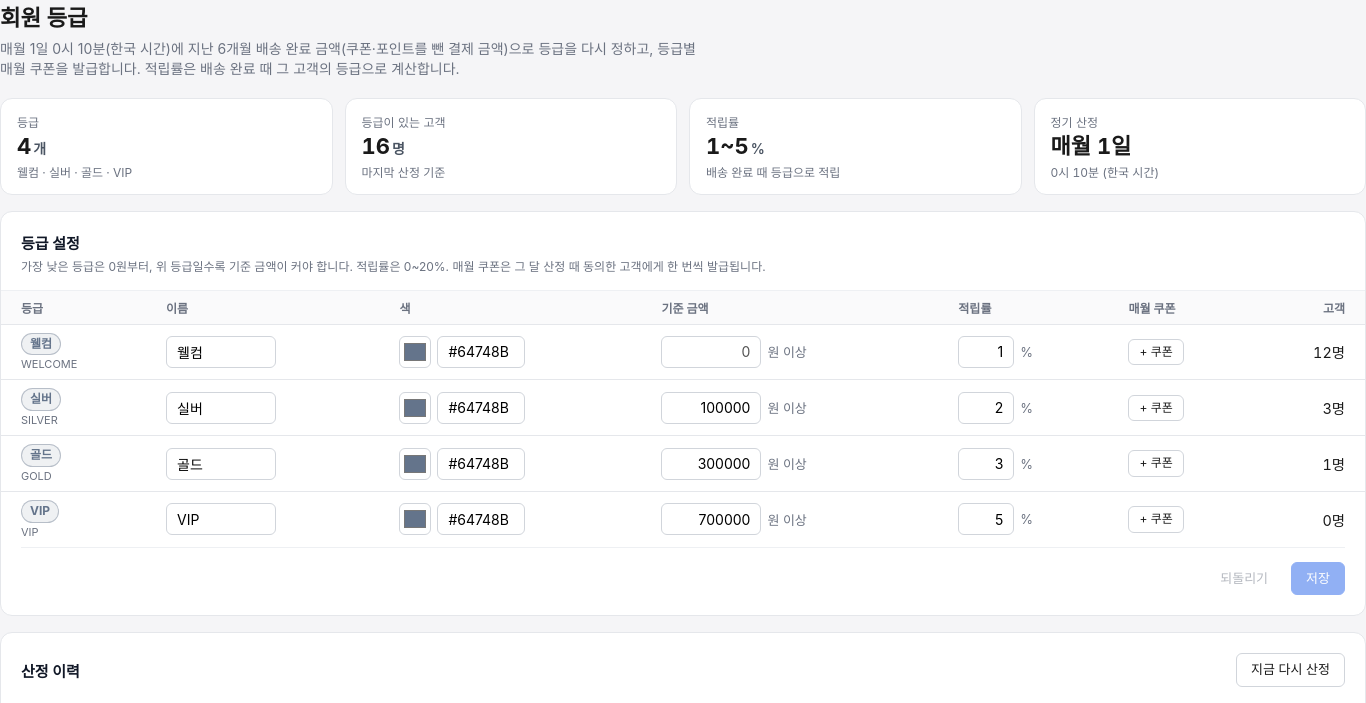
Scenario: TiersPage › saves the full list with coupon ids and shows the server message on failure
Click the button with aria-label "골드 쿠폰 추가".
click(1156, 464)  # box 1128,450 -> 1184,477
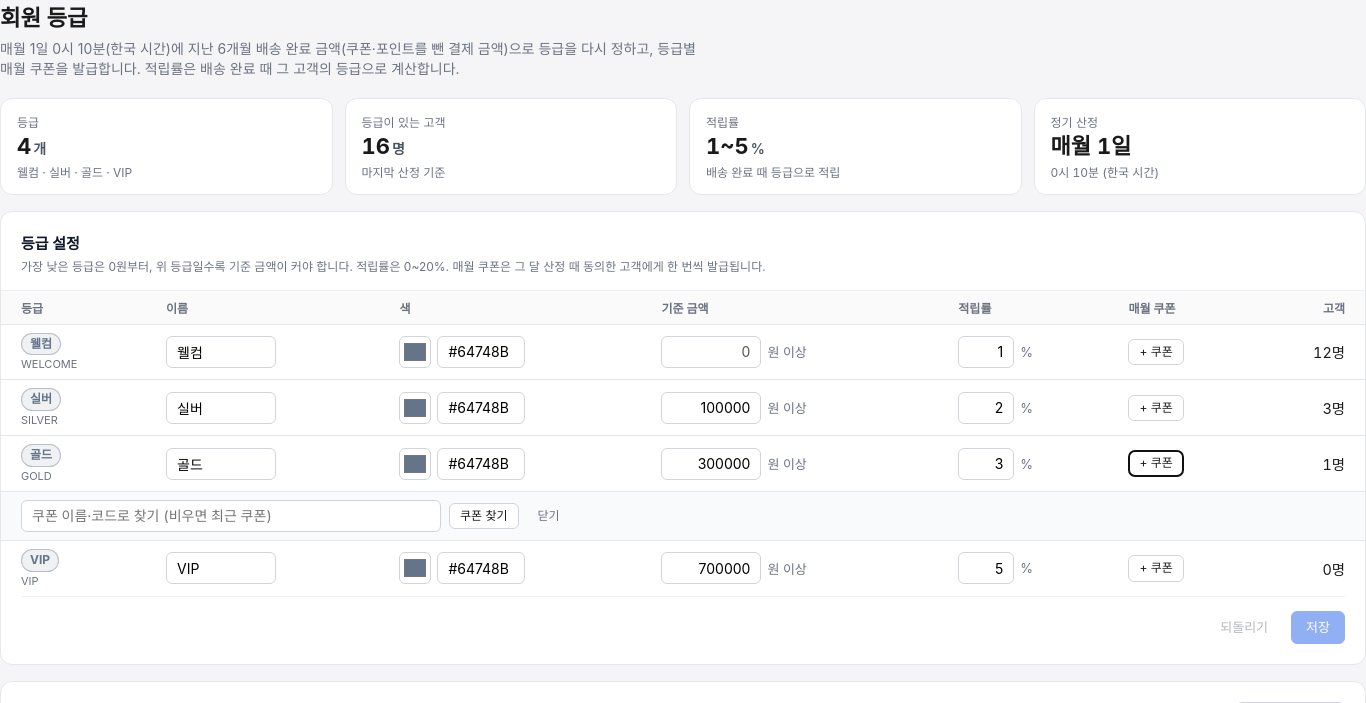
Click the button "쿠폰 찾기".
click(484, 516)  # box 449,503 -> 518,529
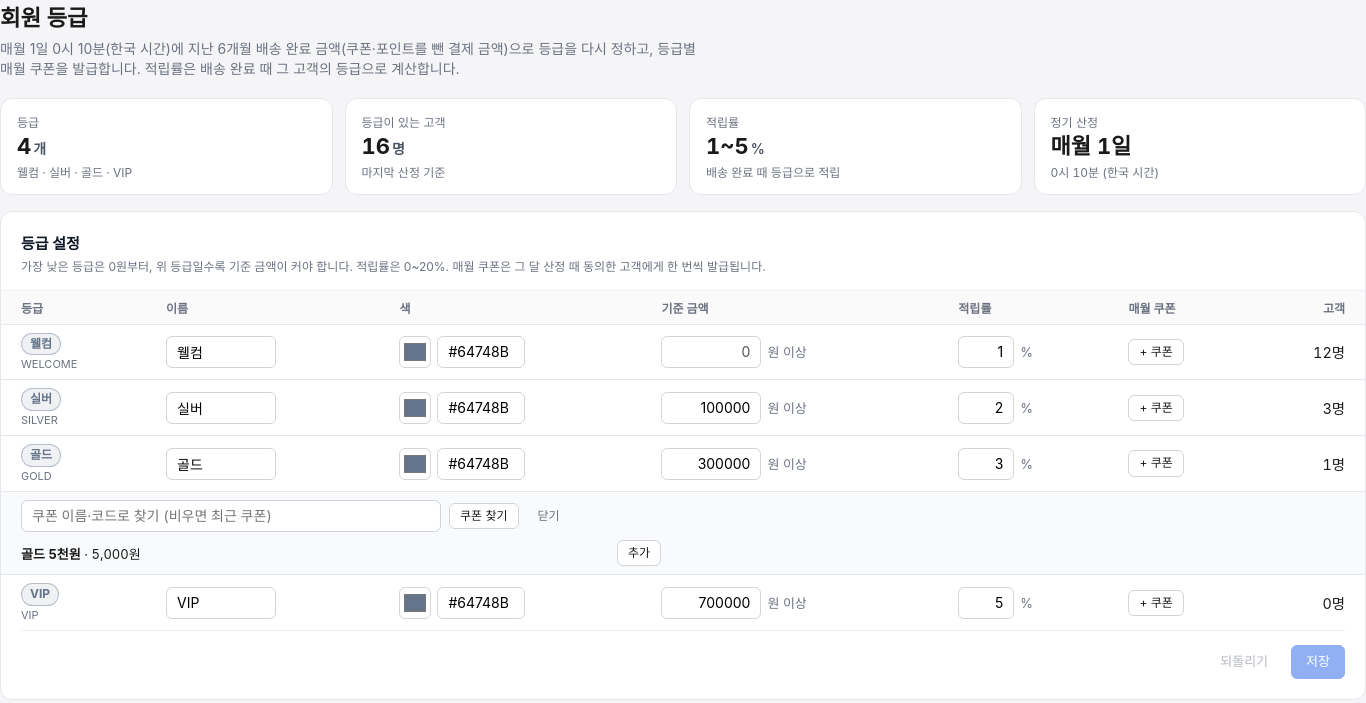
Click the button with aria-label "골드 5천원 추가".
click(639, 553)  # box 617,540 -> 661,566
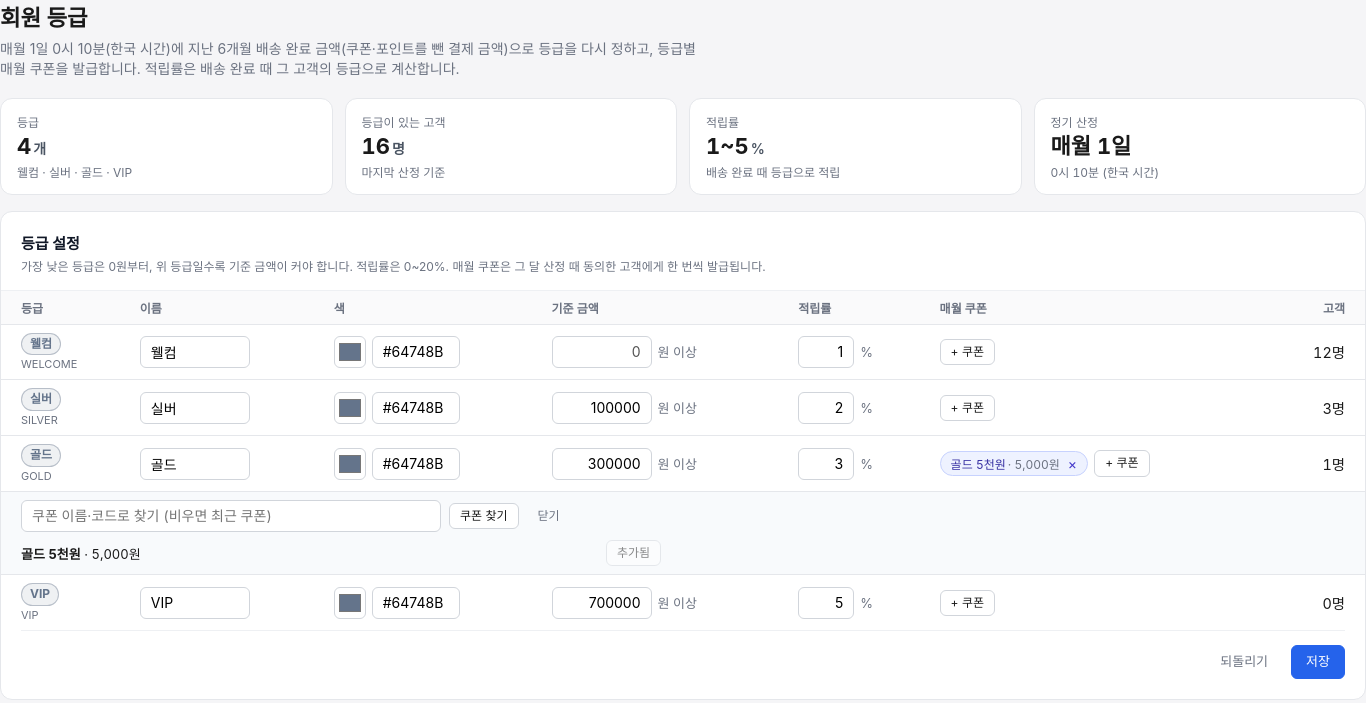
Check: the text "골드 5천원" is shown, box 951,457 -> 1006,472
Click the button "저장".
click(1318, 662)  # box 1291,645 -> 1345,679
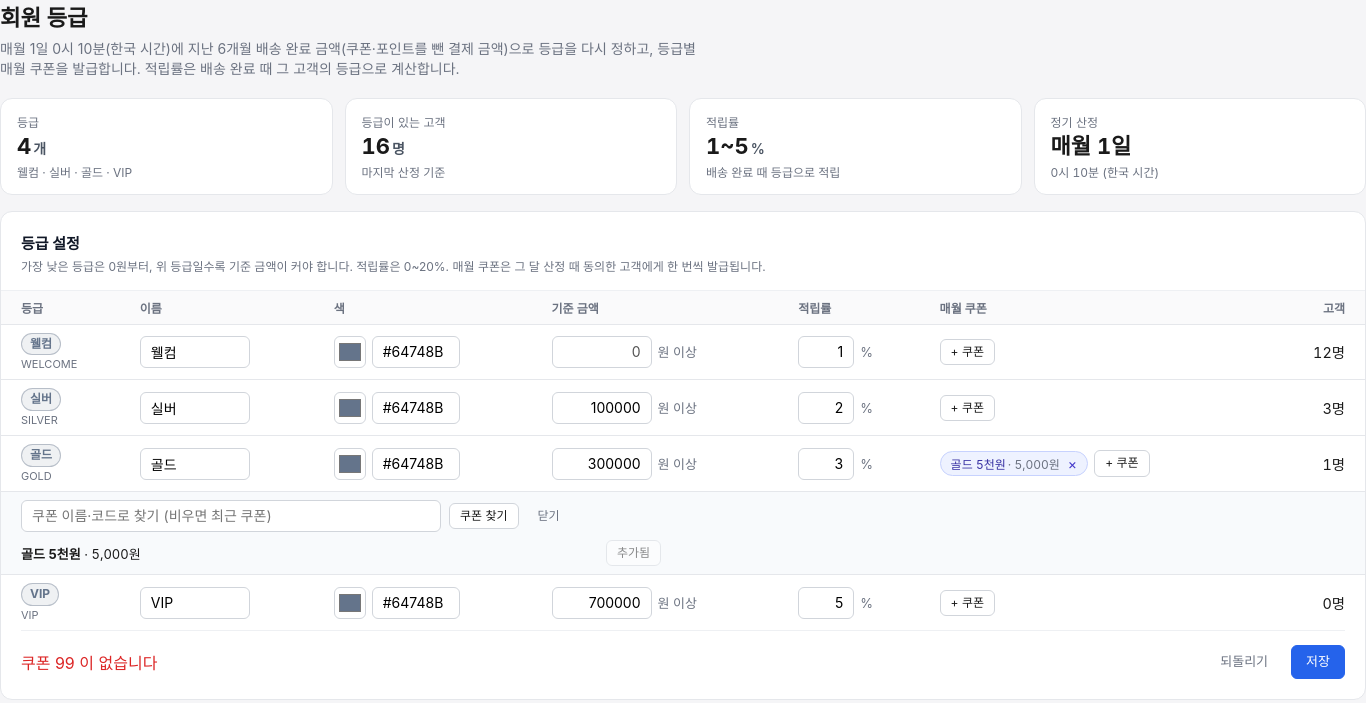
Check: the text "쿠폰 99 이 없습니다" is shown, box 21,650 -> 157,674
Click the button "저장".
click(1318, 662)  # box 1291,645 -> 1345,679
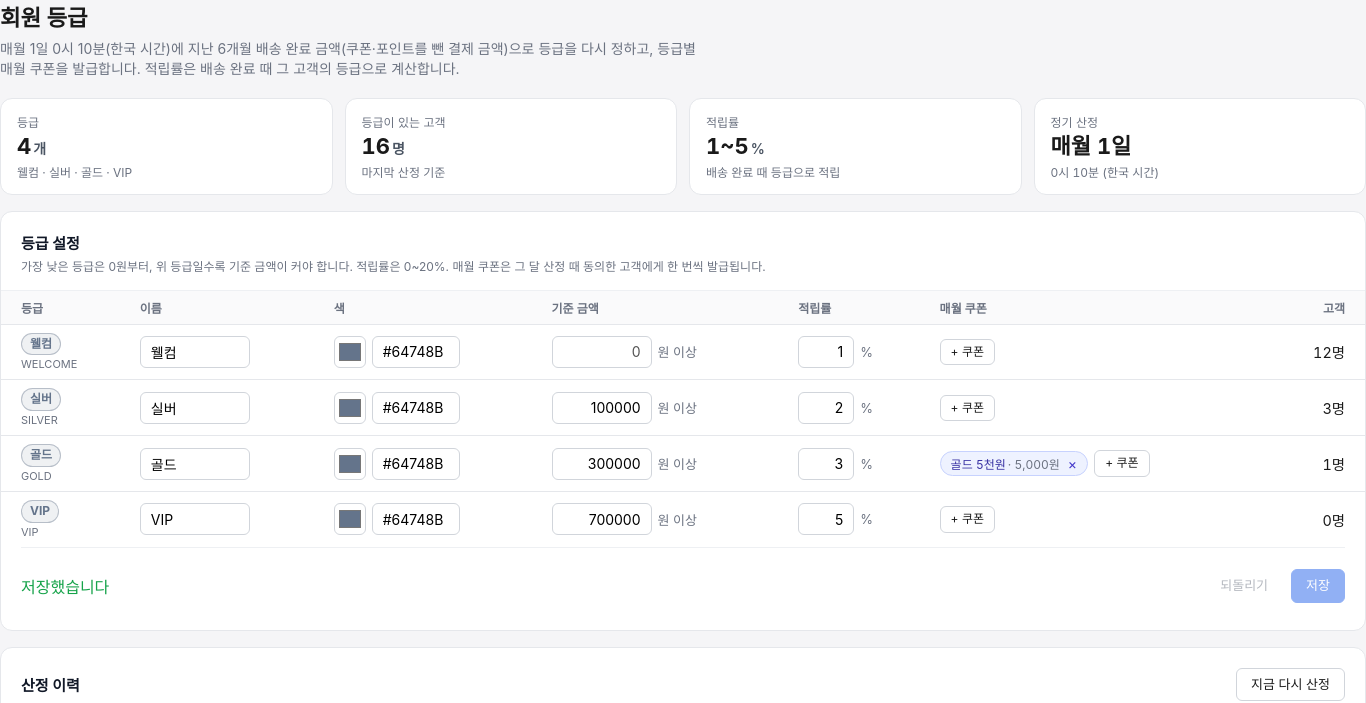
Check: the text "저장했습니다" is shown, box 21,574 -> 109,598
